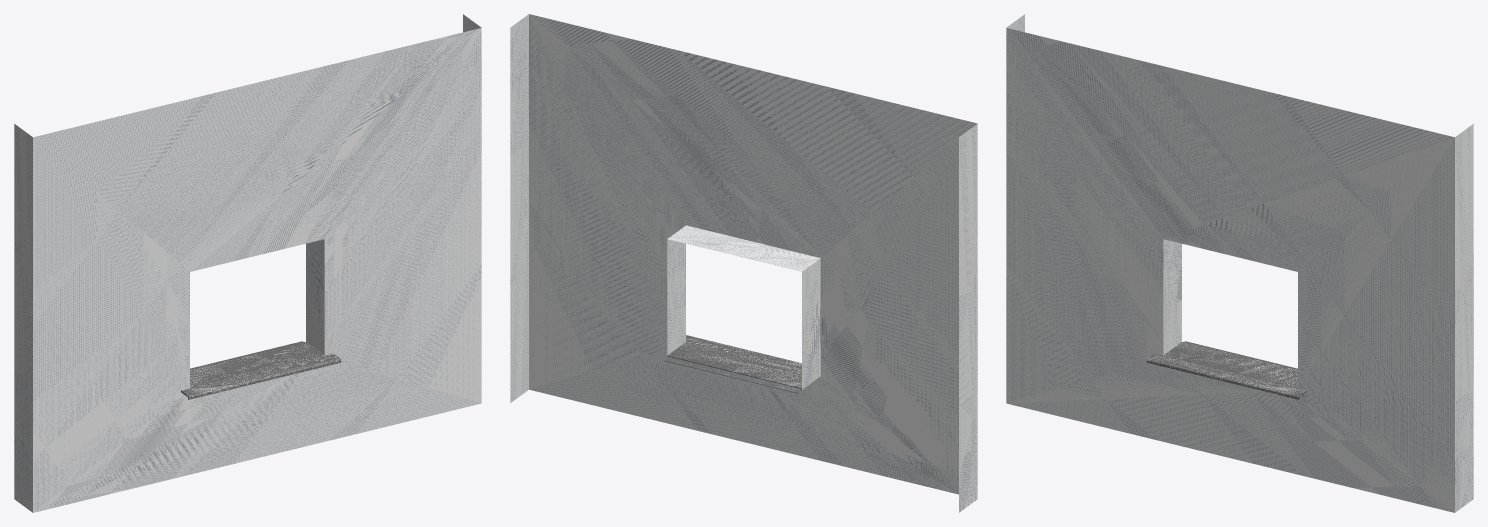
The model's file is WindowBlock_os_[500x400]_150x124x[090].dae.
3 renders of one model, left to right at view 1: azimuth 30°, elevation 25°; view 2: azimuth 150°, elevation 25°; view 3: azimuth 330°, elevation 25°, orthographic.
Parts seen in each view (by area): view 1: group_1 (×2), group_2; view 2: group_1 (×2), group_2 (×2); view 3: group_1 (×2), group_2.
Part boxes in pixels (<box>): group_1 (×2): <box>14,14,481,512</box>; group_2: <box>181,342,341,399</box>; group_1 (×2): <box>510,14,977,512</box>; group_2 (×2): <box>663,335,801,393</box>; group_1 (×2): <box>1006,14,1473,512</box>; group_2: <box>1146,342,1306,399</box>.
Bounding box in the file's own units: 197 × 23.03 × 157.
